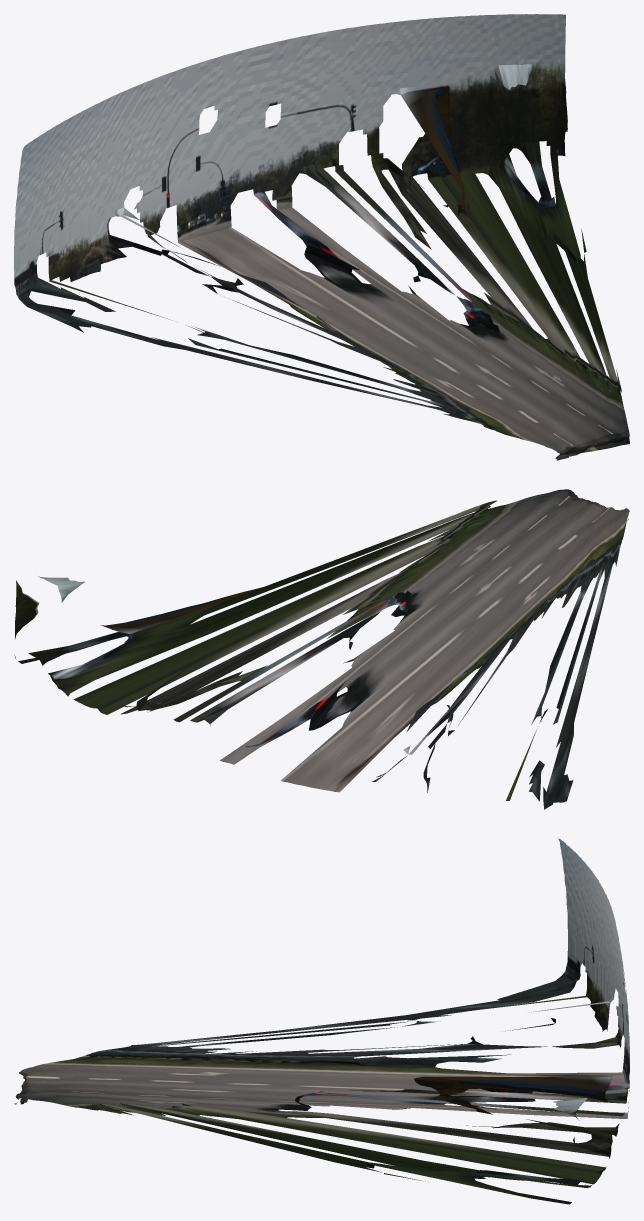
3 views of the same model, one above another, from view 1: azimuth 30°, elevation 25°; view 2: azimuth 150°, elevation 25°; view 3: azimuth 270°, elevation 25° (orthographic). The views are drawn at different scales.
Parts seen in each view (by area): view 1: defaultobject; view 2: defaultobject; view 3: defaultobject.
Boxes of the visible parts, x1,y1,x2,y2 form: defaultobject: (14, 14, 629, 460); defaultobject: (14, 489, 629, 809); defaultobject: (14, 838, 629, 1204).
Bounding box in the file's own units: 41.09 × 12.85 × 44.45.
Materials: 1 (1 with a texture image).
